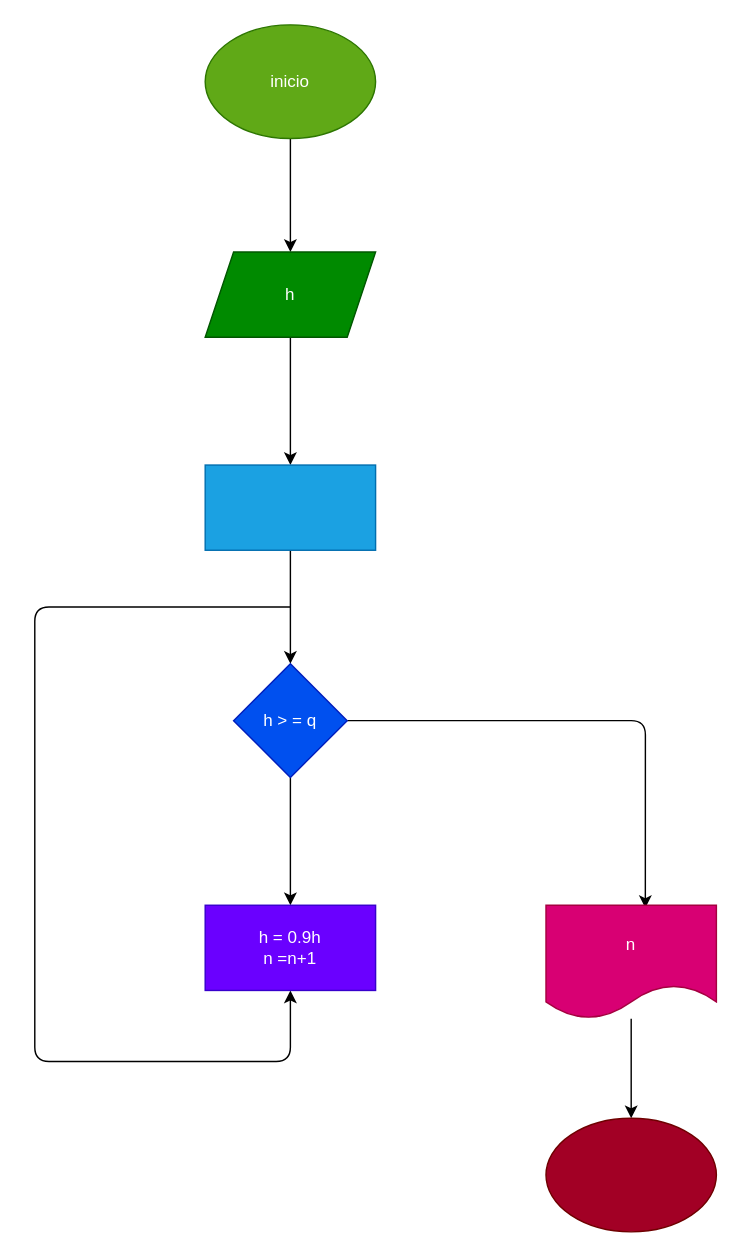
Some shapes in this 741 by 1257 pixel diagram are drawn without their labels. The shapes that lost their labels are listed below. From the top down, each one's centre as x and y in pixels, then its label:
At (x=290, y=507): "q = h/5 n = 0".
At (x=630, y=1174): "fin".
